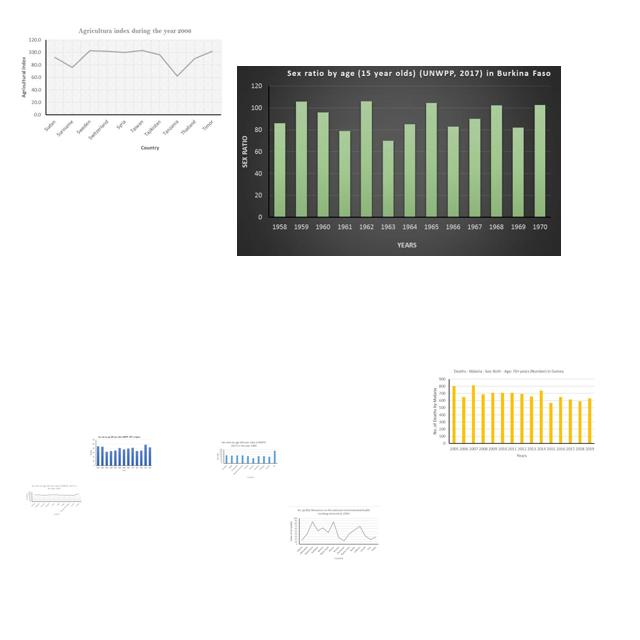Graph: (237, 66, 561, 256), (15, 24, 225, 151), (430, 366, 598, 459), (287, 506, 380, 561), (215, 440, 279, 480), (89, 435, 153, 472), (25, 484, 82, 516)
